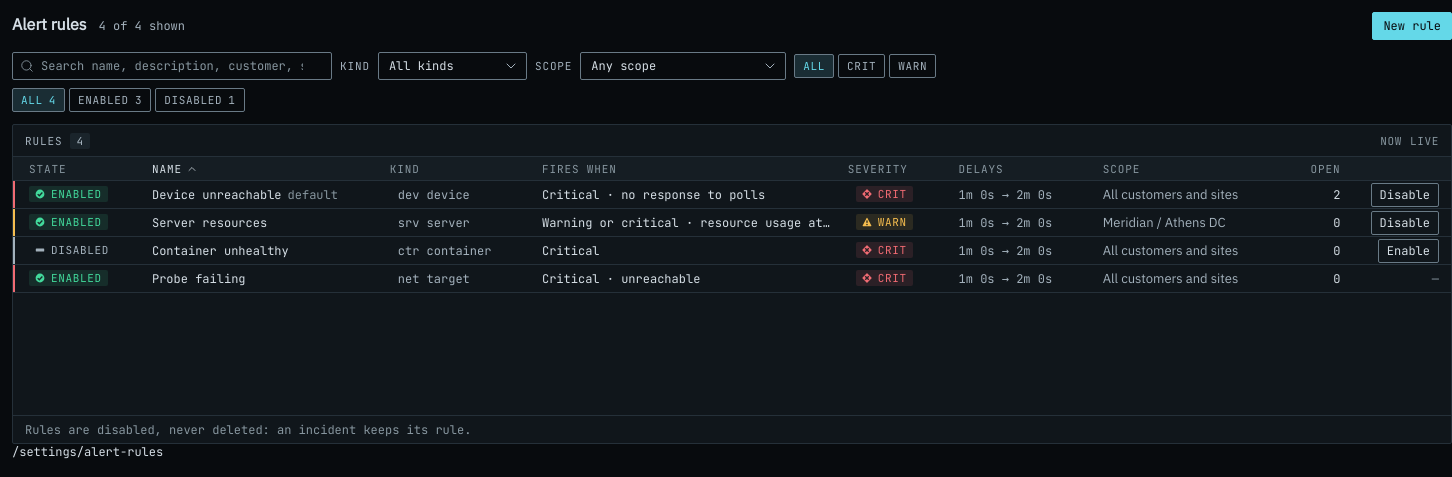
Test: search, filters, sort and pages › searches after the typing settles, and holds the search in the URL
Type "athens" into the search field named "Search alert rules". click: point(172, 66)
box: x1=12 y1=52 x2=332 y2=80
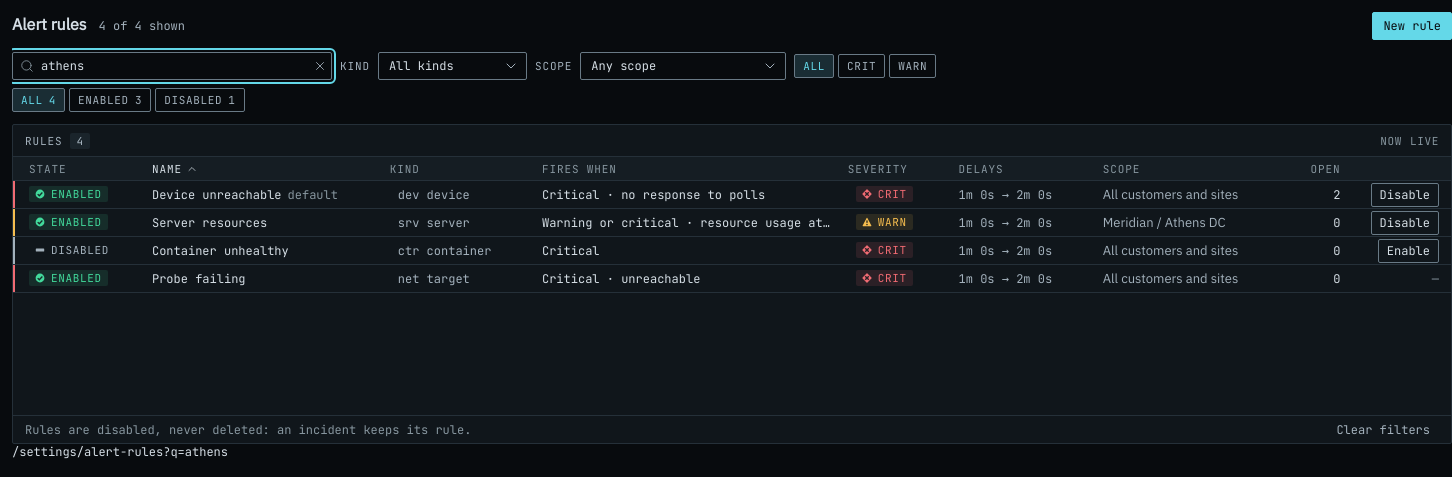
Result: the text with test id "where" reads "/settings/alert-rules?q=athens" at x1=12 y1=444 x2=228 y2=460
